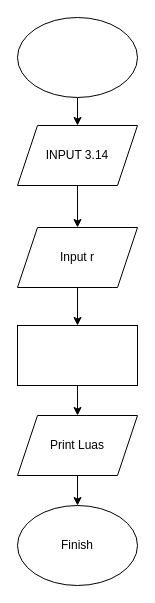
This 155x603 diagram has some shape labels left out. The shapes that lost their labels are listed below. From the top down, each one's box as (x1, y1, x2, y2) in pixels, then its label:
(16, 16, 138, 98): START
(16, 324, 138, 386): LUAS <-- 3.14 * r*r
